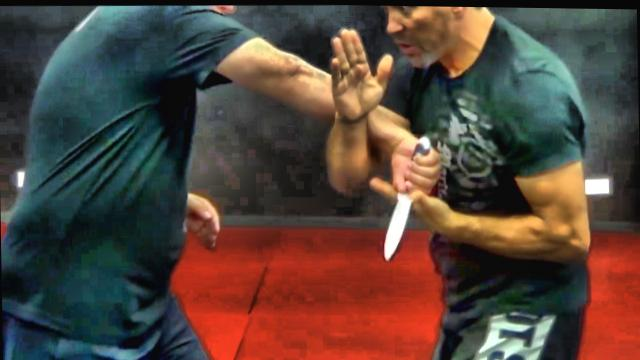knife: (377, 131, 443, 266)
